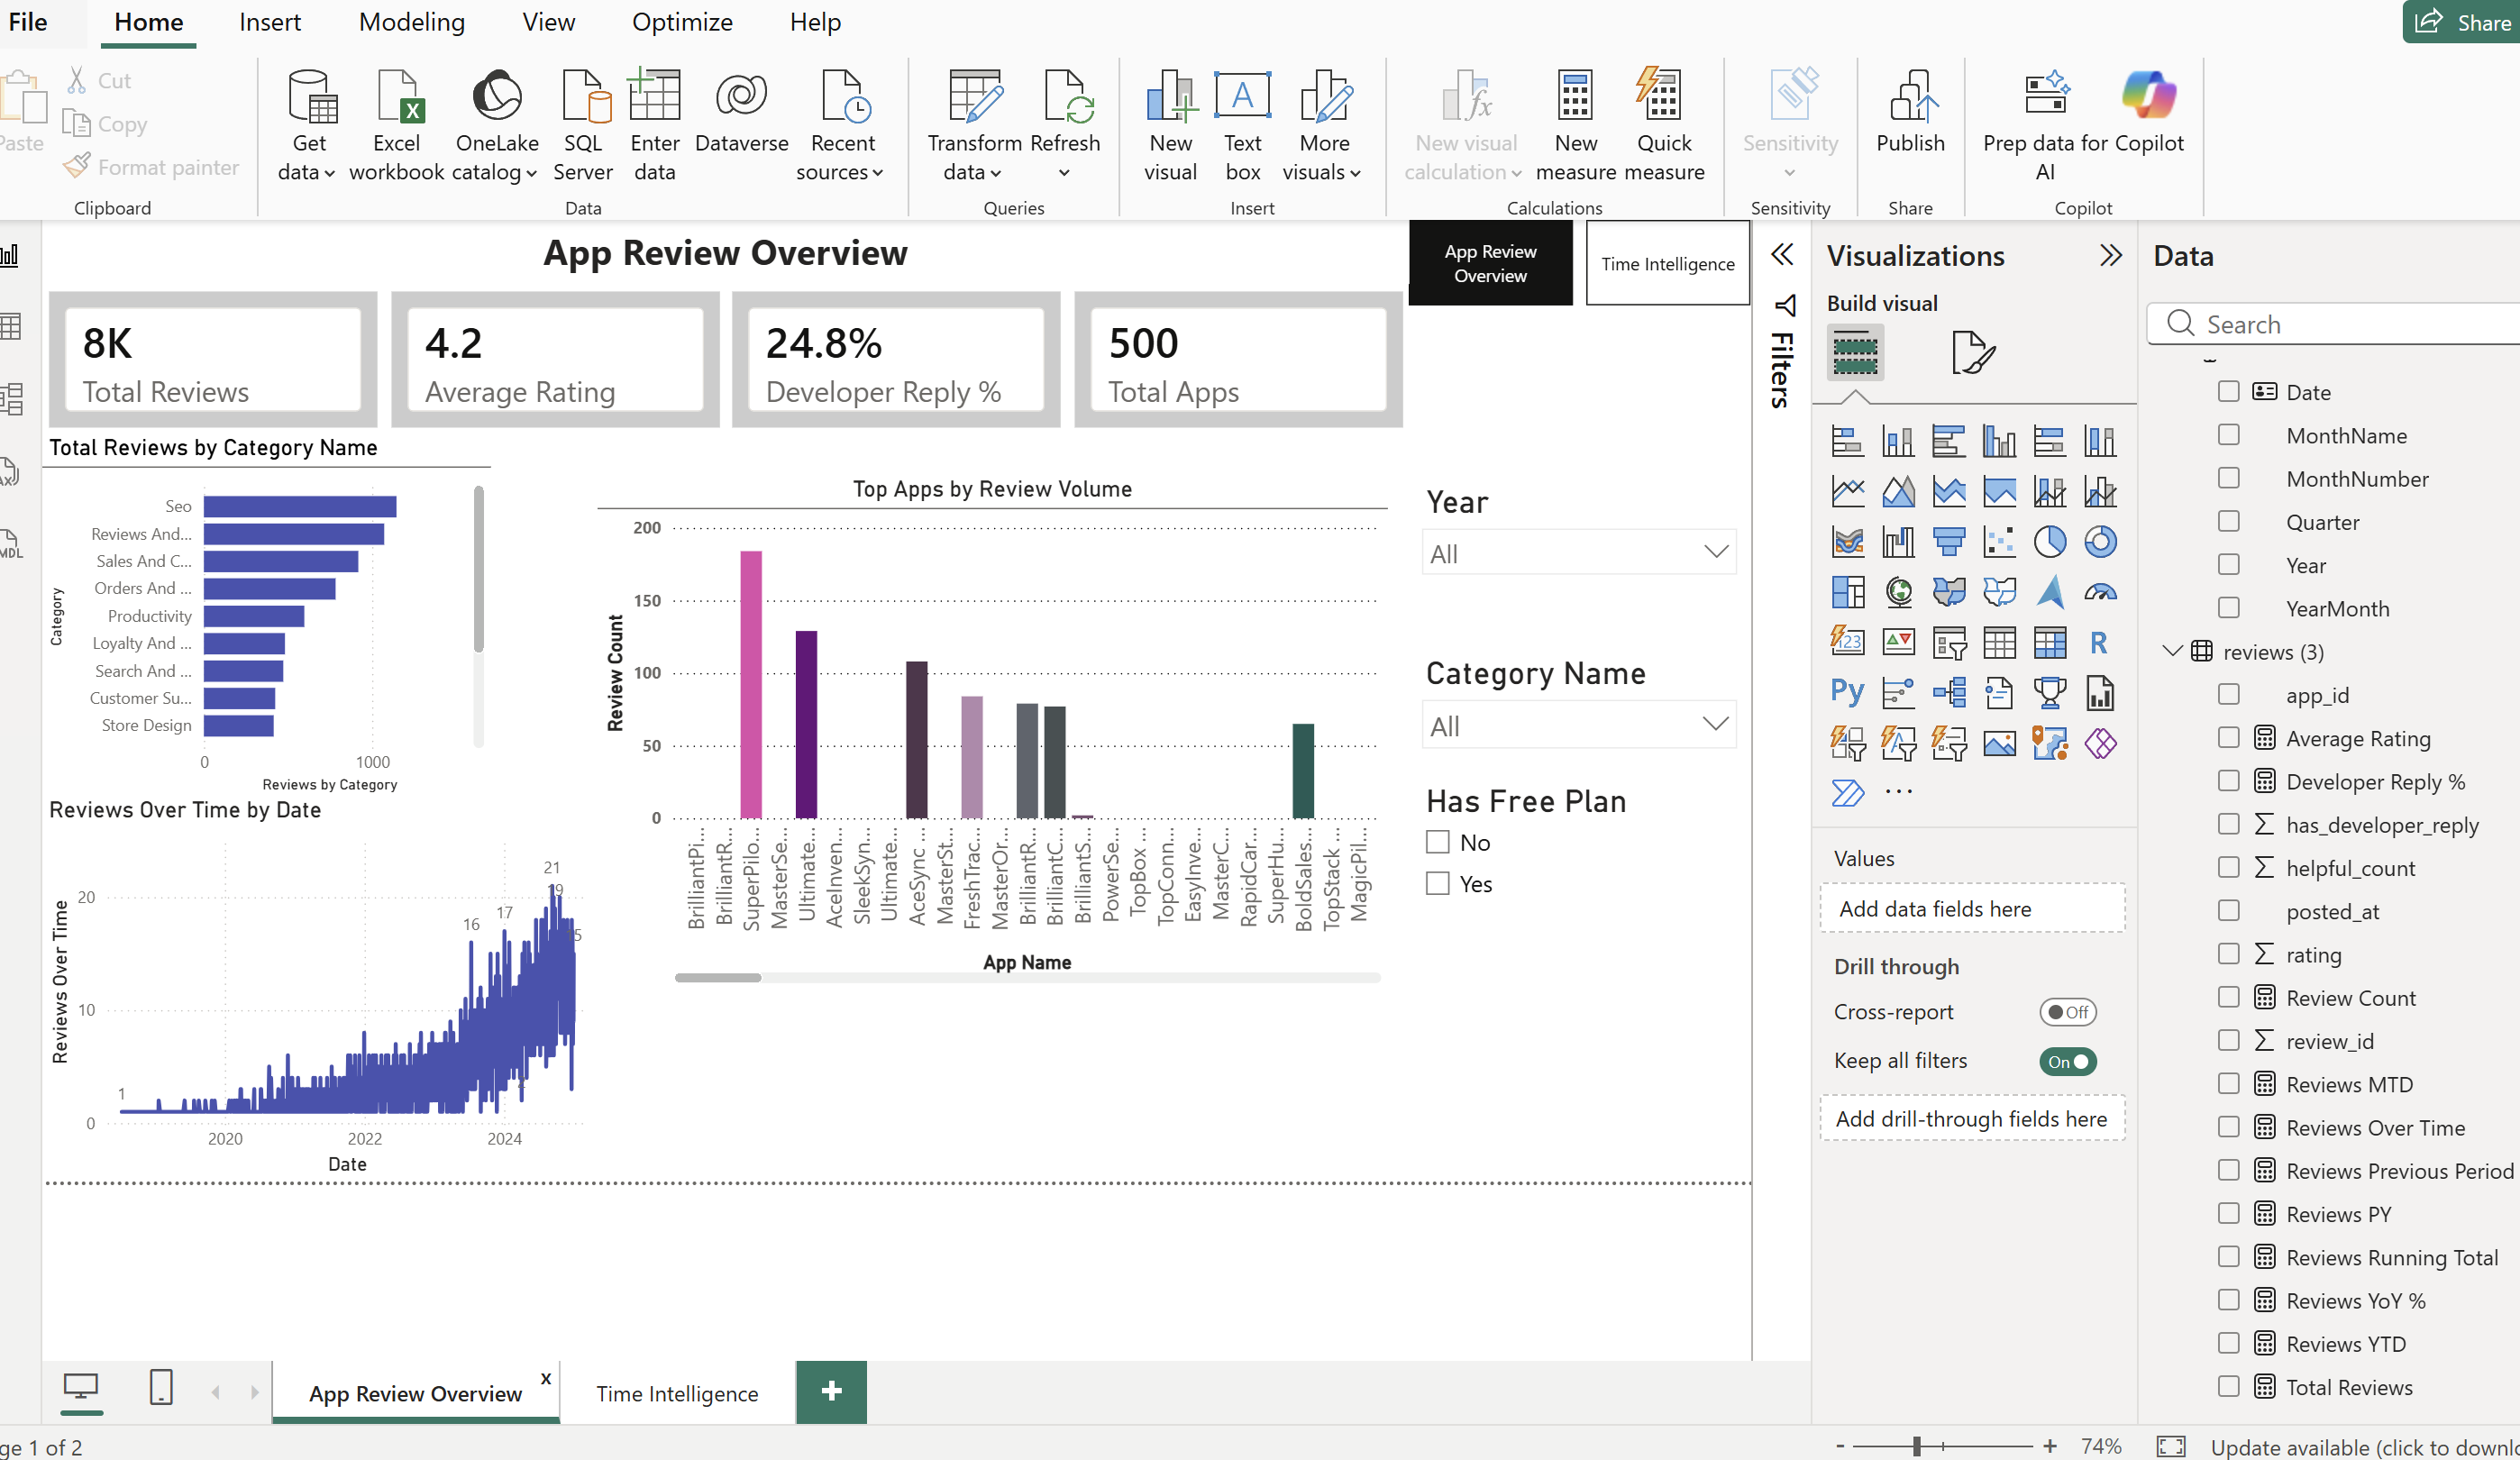

This screenshot's page, from the dashboard's own definition file:
{"tool":"powerbi","page":{"name":"App Review Overview","canvas":[1280,720],"ordinal":0},"visuals":[{"type":"cardVisual","fields":{"Data":["apps (3).Total Apps"]},"box":[768,48,256,112],"z":0},{"type":"cardVisual","fields":{"Data":["reviews (3).Total Reviews"]},"box":[0,48,256,112],"z":1000},{"type":"cardVisual","fields":{"Data":["reviews (3).Average Rating"]},"box":[256,48,256,112],"z":2000},{"type":"cardVisual","fields":{"Data":["reviews (3).Developer Reply %"]},"box":[512,48,256,112],"z":3000},{"type":"slicer","fields":{"Values":["apps (3).category_name"]},"box":[1024,320,256,80],"z":4000},{"type":"slicer","fields":{"Values":["dim_date.Year"]},"box":[1024,192,256,96],"z":5000},{"type":"slicer","fields":{"Values":["apps (3).has_free_plan"]},"box":[1024,416,256,112],"z":6000},{"type":"lineChart","fields":{"Category":["dim_date.Date.Variation.Date Hierarchy.Year"],"Y":["reviews (3).Reviews Over Time"]},"box":[0,432,416,288],"z":7000},{"type":"barChart","title":"Total Reviews by Category Name","fields":{"Category":["apps (3).category_name"],"Y":["reviews (3).Total Reviews"]},"box":[0,160,336,272],"z":8000},{"type":"columnChart","title":"Top Apps by Review Volume","fields":{"Category":["apps (3).app_name"],"Series":["apps (3).developer"],"Y":["reviews (3).Average Rating"]},"box":[416,192,592,384],"z":9000},{"type":"pageNavigator","box":[1024,0,256,64],"z":10000},{"type":"textbox","box":[0,0,1024,48],"z":10001}]}

Visuals, with their boxes on the page's 1280x720 design canvas (x1, y1, x2, y2). These are canvas units, not pixel positions in the 2520x1460 screenshot, which may show the page scaled, cropped or inside an application window:
cardVisual - apps (3).Total Apps: <region>768, 48, 1024, 160</region>
cardVisual - reviews (3).Total Reviews: <region>0, 48, 256, 160</region>
cardVisual - reviews (3).Average Rating: <region>256, 48, 512, 160</region>
cardVisual - reviews (3).Developer Reply %: <region>512, 48, 768, 160</region>
slicer - apps (3).category_name: <region>1024, 320, 1280, 400</region>
slicer - dim_date.Year: <region>1024, 192, 1280, 288</region>
slicer - apps (3).has_free_plan: <region>1024, 416, 1280, 528</region>
lineChart - dim_date.Date.Variation.Date Hierarchy.Year x reviews (3).Reviews Over Time: <region>0, 432, 416, 720</region>
"Total Reviews by Category Name" barChart: <region>0, 160, 336, 432</region>
"Top Apps by Review Volume" columnChart: <region>416, 192, 1008, 576</region>
pageNavigator: <region>1024, 0, 1280, 64</region>
textbox: <region>0, 0, 1024, 48</region>
